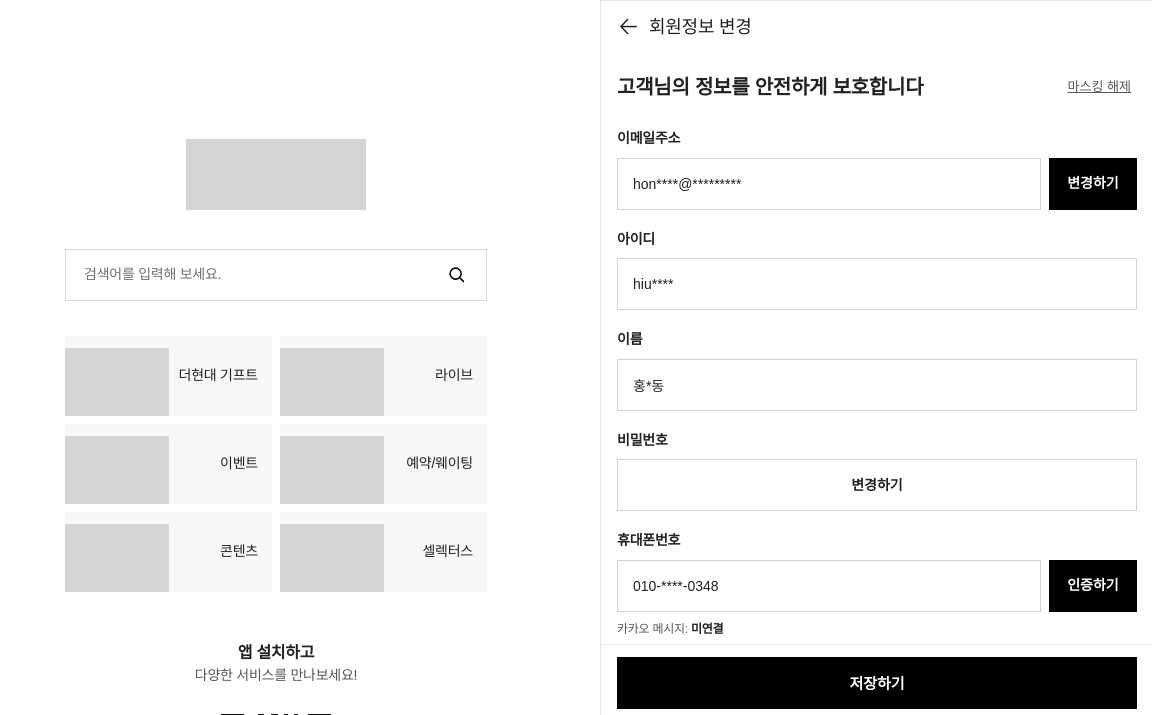
Test: MemberInfoScreen › saves the inline settlement form with the member information action
Click the button "저장하기" at (877, 683), box [617,657,1137,709]
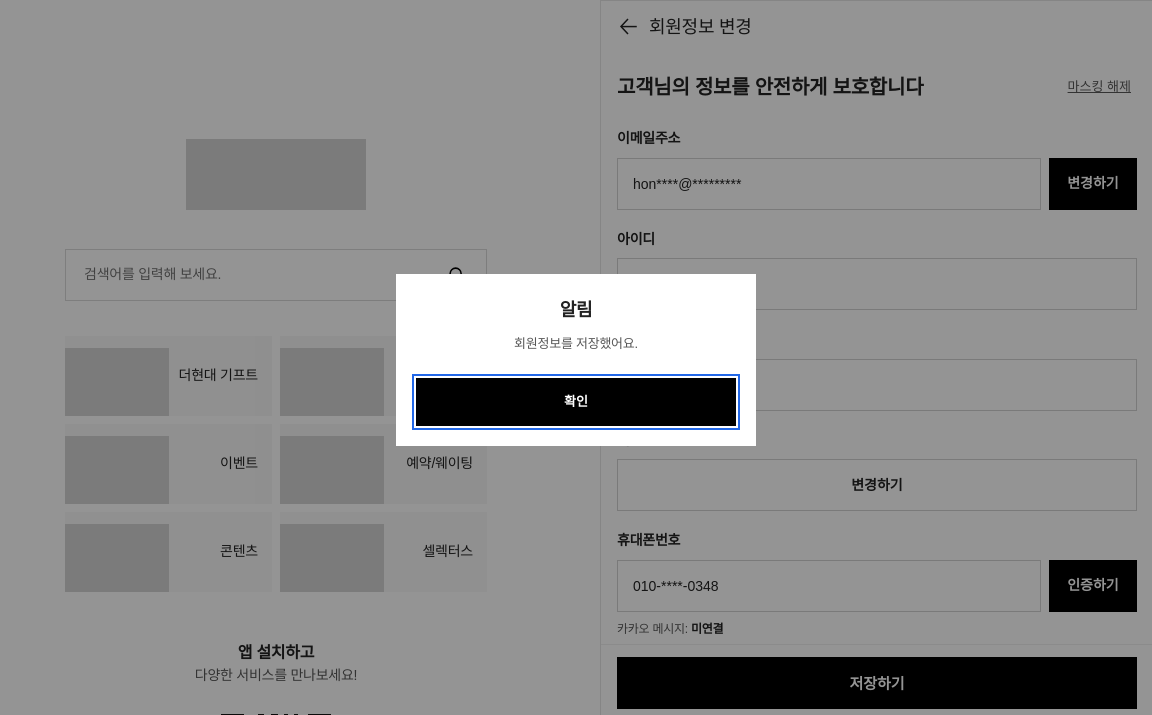
Expected: the dialog "알림" shows "회원정보를 저장했어요.", [514,336,638,351]
